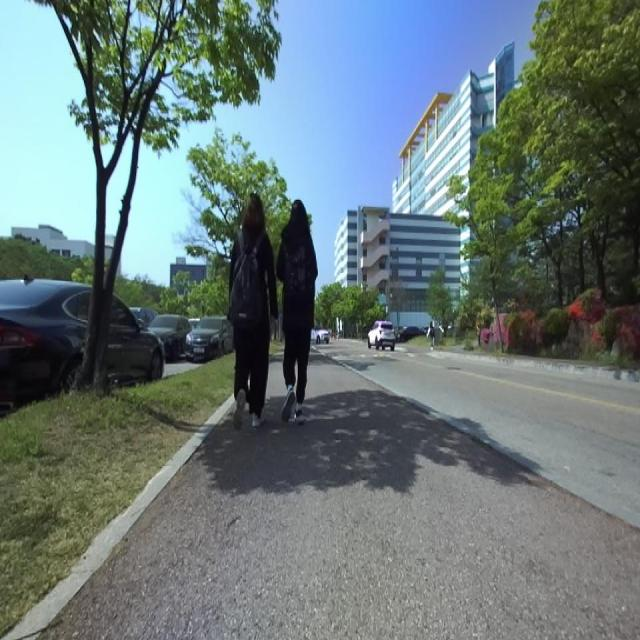sidewalk: (44, 355, 640, 639)
